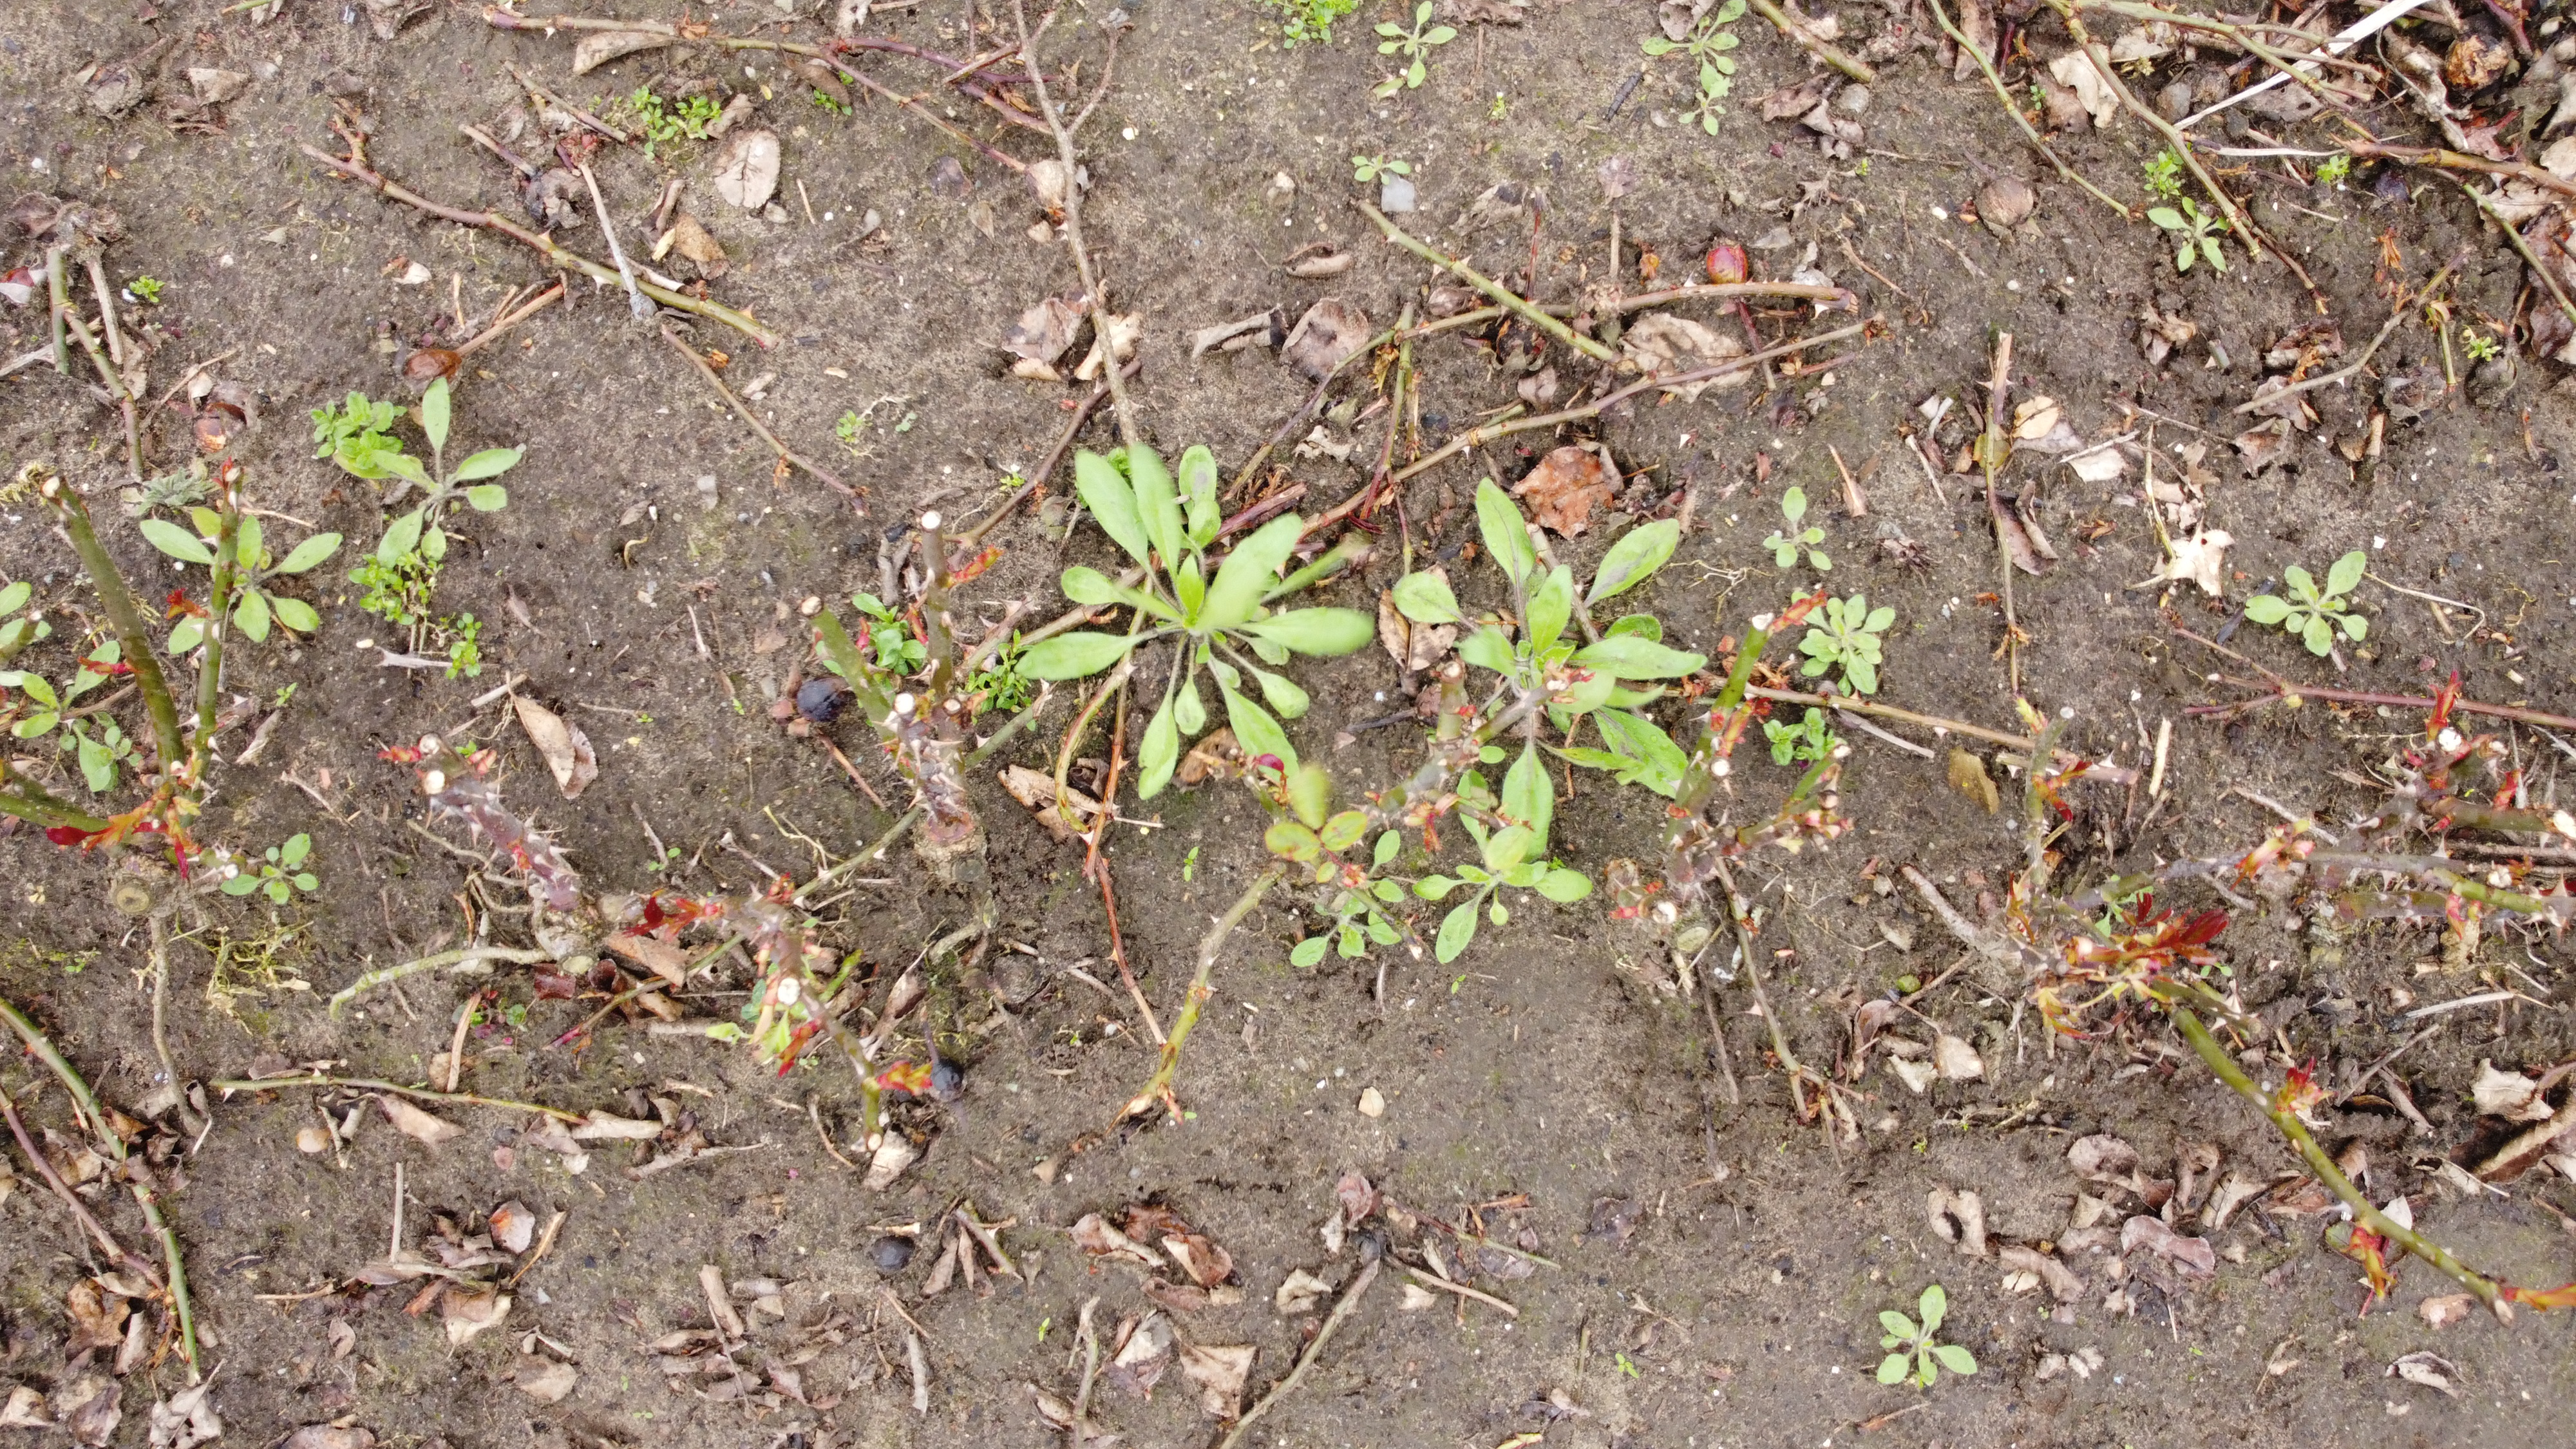Rose: (1626, 605, 1796, 927), (830, 568, 994, 876)
Weed: (1014, 439, 1362, 775), (1401, 483, 1690, 784), (340, 386, 508, 579), (136, 501, 341, 644), (1421, 778, 1560, 954), (2247, 547, 2378, 653), (1861, 1279, 1980, 1396), (1790, 589, 1888, 686)
